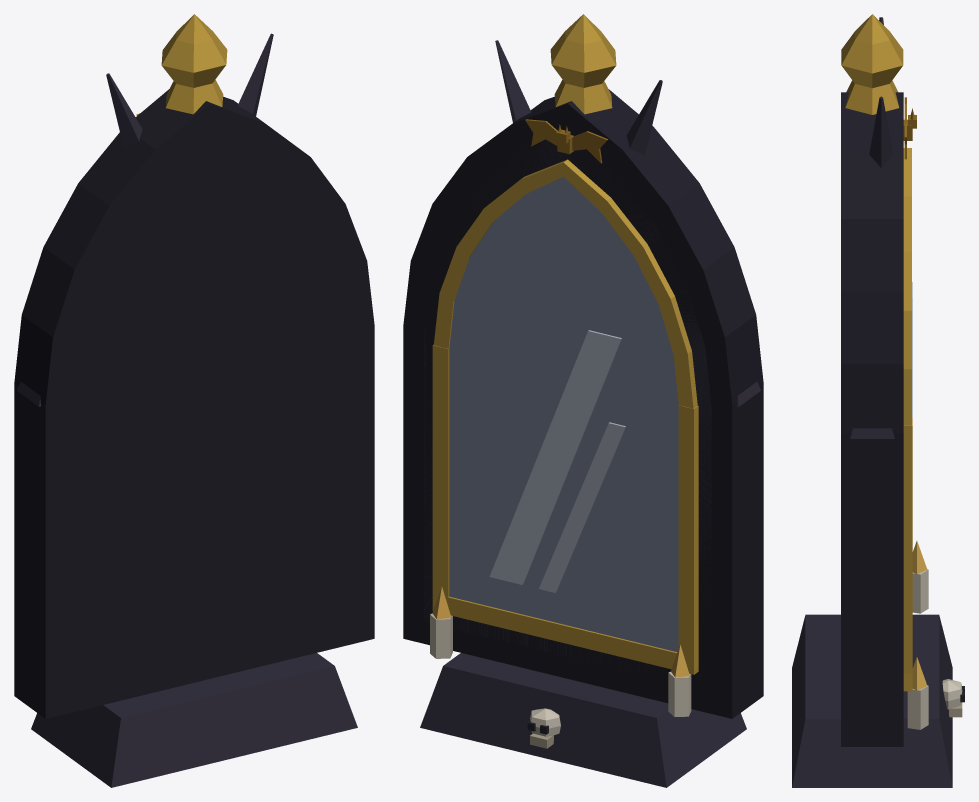
Rendered from Decor_VampireCrypt_Mirror.fbx.
The picture shows the model from 3 angles, left to right: view 1: azimuth 30°, elevation 25°; view 2: azimuth 150°, elevation 25°; view 3: azimuth 270°, elevation 25°; orthographic projection.
Visible parts, largest first — view 1: Mirror_Body; view 2: Mirror_Body; view 3: Mirror_Body.
Boxes of the visible parts, bbox=[...] form: Mirror_Body: bbox=[14, 14, 374, 787]; Mirror_Body: bbox=[403, 14, 763, 787]; Mirror_Body: bbox=[792, 14, 964, 787].
Bounding box in the file's own units: 8 × 16.4 × 3.6.
